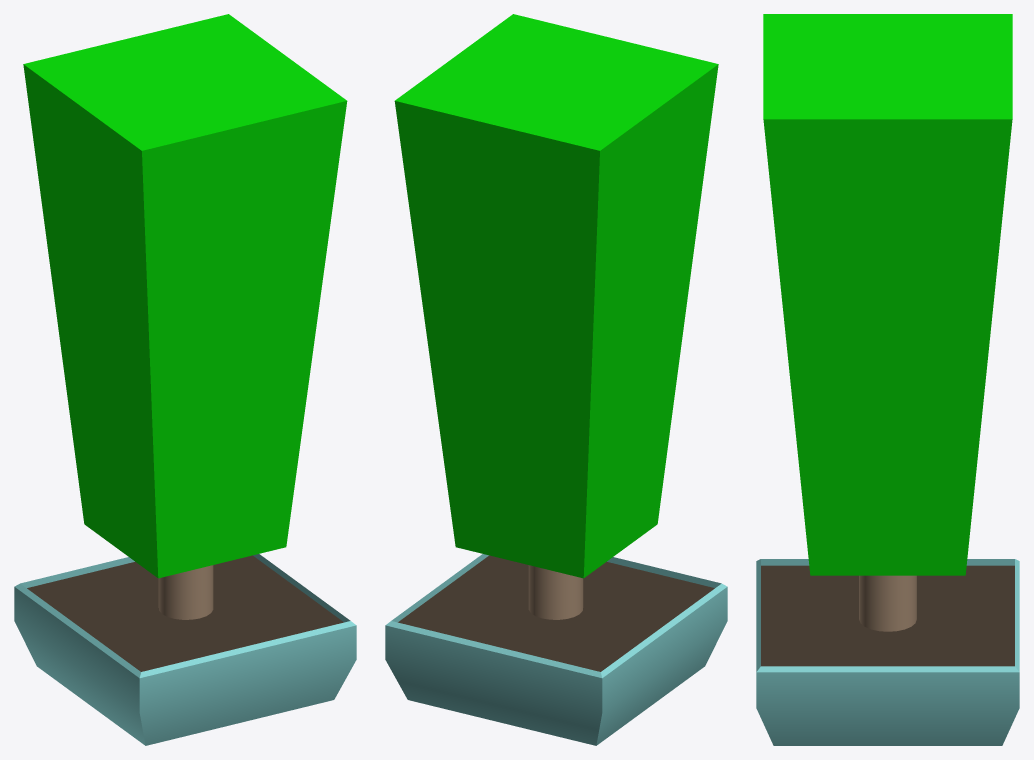
File: BlueSmallTree.fbx
The picture shows the model from 3 angles, left to right: view 1: azimuth 30°, elevation 25°; view 2: azimuth 150°, elevation 25°; view 3: azimuth 270°, elevation 25°; orthographic projection. The views are drawn at different scales.
Parts seen in each view (by area): view 1: pCube3, pCube2, pCylinder3; view 2: pCube3, pCube2, pCylinder3; view 3: pCube3, pCube2, pCylinder3.
Boxes of the visible parts, left/top/right/bottom form: pCube3: left=23, top=14, right=347, bottom=578; pCube2: left=14, top=554, right=356, bottom=745; pCylinder3: left=158, top=565, right=213, bottom=619; pCube3: left=394, top=14, right=718, bottom=578; pCube2: left=385, top=554, right=727, bottom=745; pCylinder3: left=528, top=565, right=583, bottom=619; pCube3: left=763, top=14, right=1012, bottom=575; pCube2: left=756, top=559, right=1019, bottom=745; pCylinder3: left=859, top=575, right=916, bottom=631.
Bounding box in the file's own units: 81.62 × 216 × 81.62.
